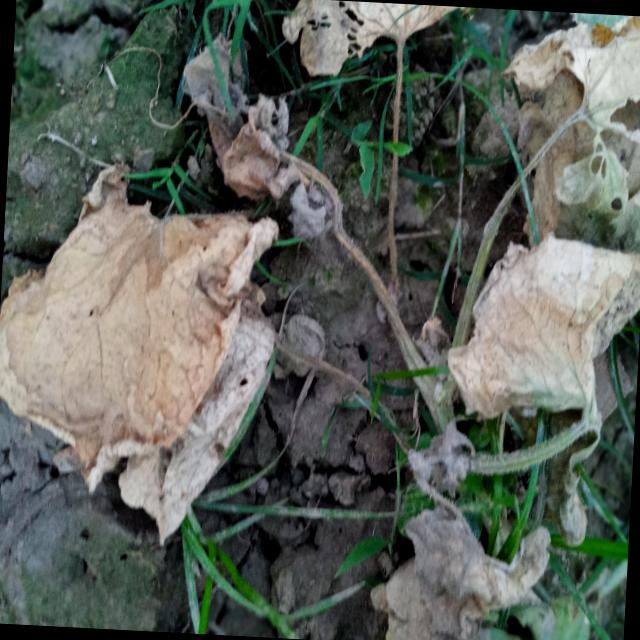cucumber_bacterial: (0, 191, 312, 537), (441, 212, 640, 455), (162, 57, 379, 266), (353, 491, 589, 640), (472, 9, 640, 203), (262, 0, 464, 93)
